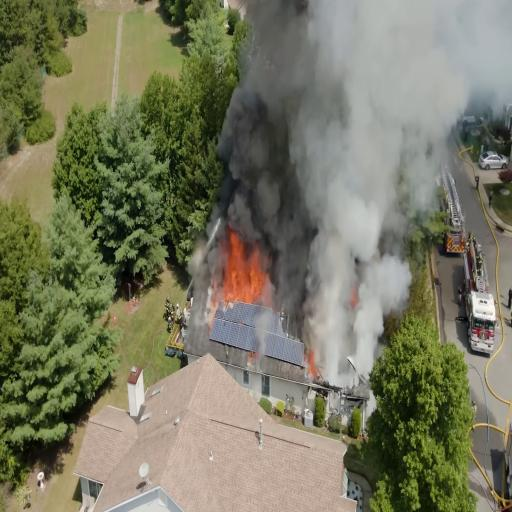fire: (200, 234, 269, 316)
smoke: (290, 48, 396, 247), (313, 5, 433, 126), (228, 95, 298, 231)
